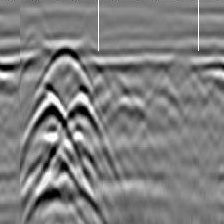Utility: (21, 42, 111, 224)
